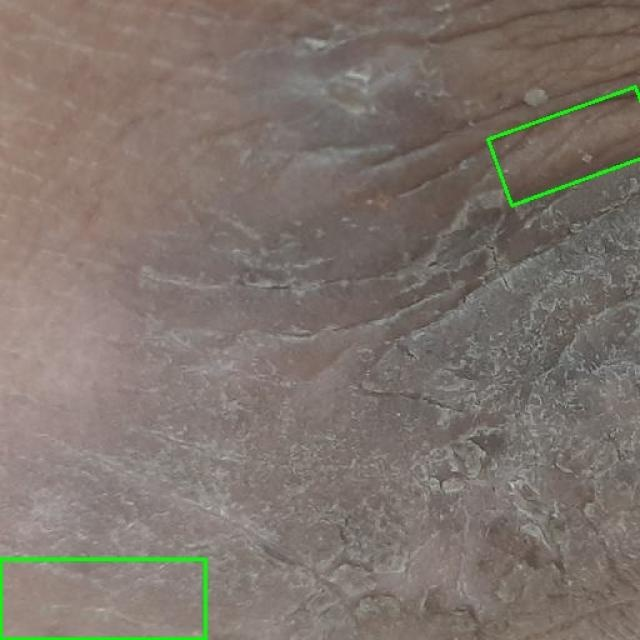Eczema: (489, 87, 640, 205), (0, 559, 206, 639)
